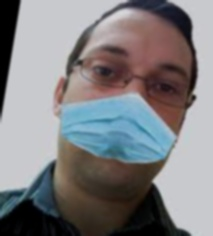mask_weared_incorrect: (68, 1, 197, 188)
